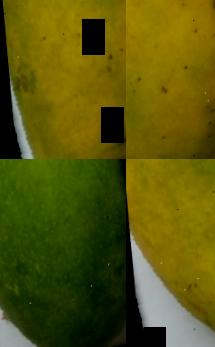PartiallyRipe: (0, 0, 126, 159), (126, 159, 215, 347), (126, 0, 215, 159)
Unripe: (0, 159, 126, 347)
